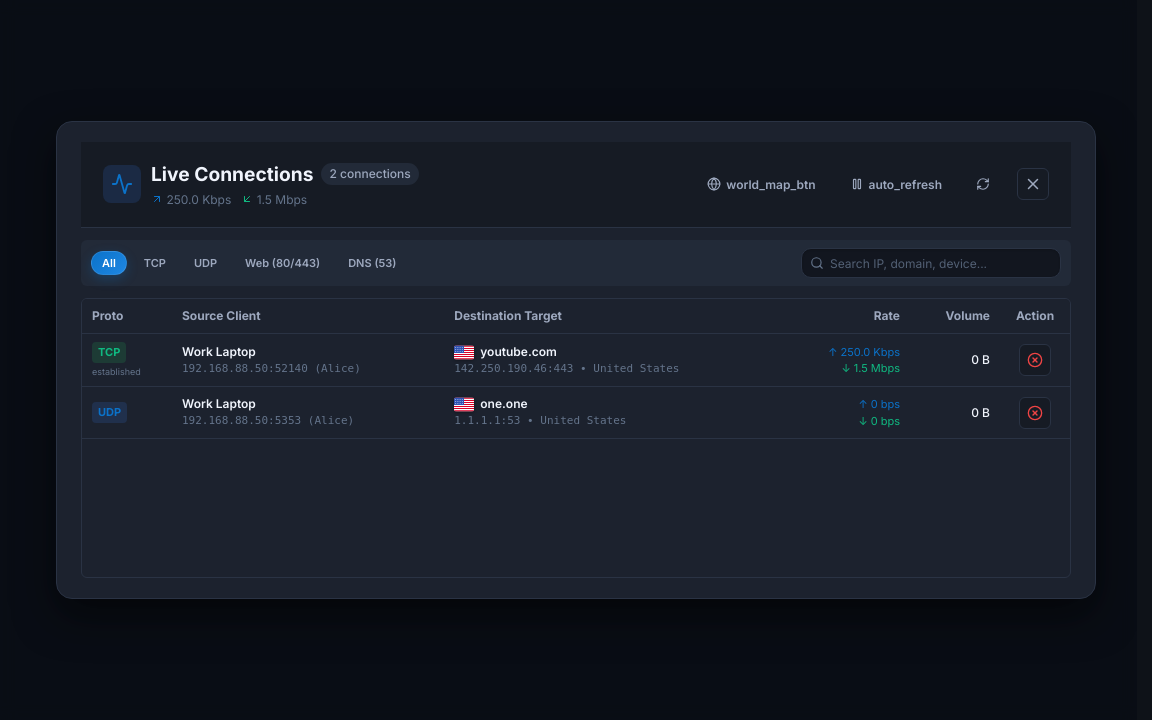
Scenario: LiveConnectionsModal › renders connections and handles search filtering
Check: the text "youtube.com" is shown, box left=480, top=343, right=557, bottom=361
Check: the text "1.1.1.1:53 • United States" is shown, box left=454, top=414, right=626, bottom=427
# Filter by search
Type "youtube" into the field with placeholder "Search IP, domain, device...".
click(931, 263); type("youtube")  # box left=801, top=248, right=1061, bottom=278
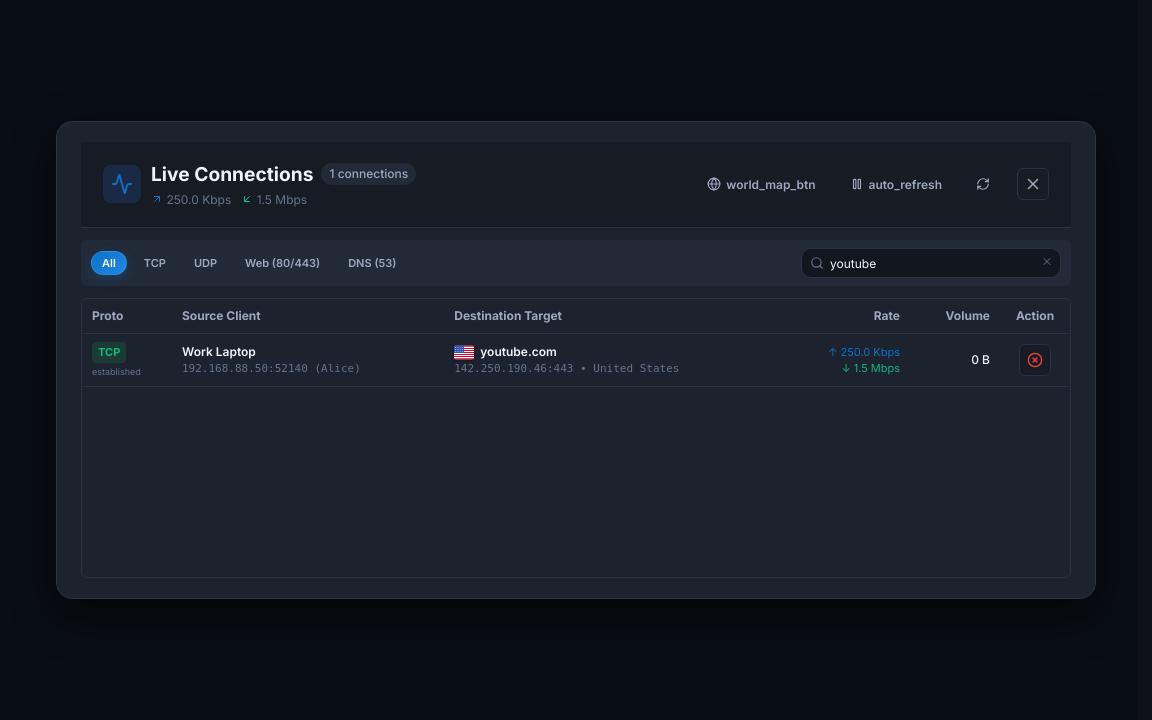
Check: the text "youtube.com" is shown, box left=480, top=343, right=557, bottom=361
Check: the text "1.1.1.1" is gone
